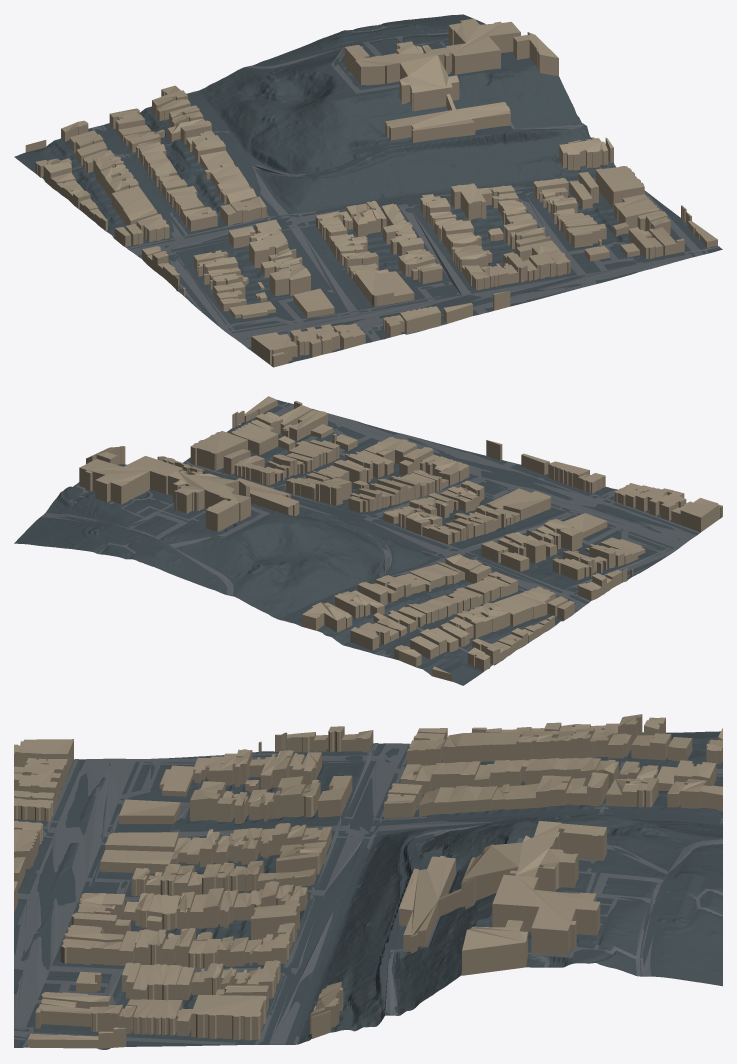
The model's file is epsg26910-1427-10889.lod0.glb.
3 renders of one model, top to bottom at view 1: azimuth 30°, elevation 25°; view 2: azimuth 150°, elevation 25°; view 3: azimuth 270°, elevation 25°, orthographic. The views are drawn at different scales.
Visible parts, largest first — view 1: epsg26910-1427-10889-lod0; view 2: epsg26910-1427-10889-lod0; view 3: epsg26910-1427-10889-lod0.
Boxes of the visible parts, x1=… form: epsg26910-1427-10889-lod0: x1=14, y1=14, x2=722, y2=367; epsg26910-1427-10889-lod0: x1=14, y1=396, x2=722, y2=685; epsg26910-1427-10889-lod0: x1=14, y1=714, x2=722, y2=1049.
Size of the model in its own units: 384 by 75.46 by 384.
